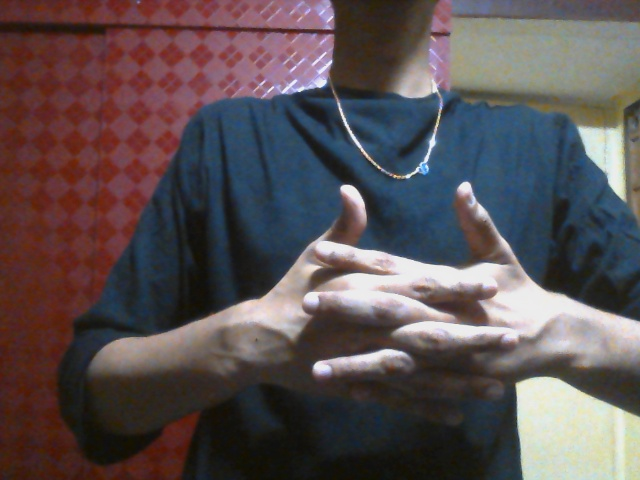W: (269, 182, 550, 431)
